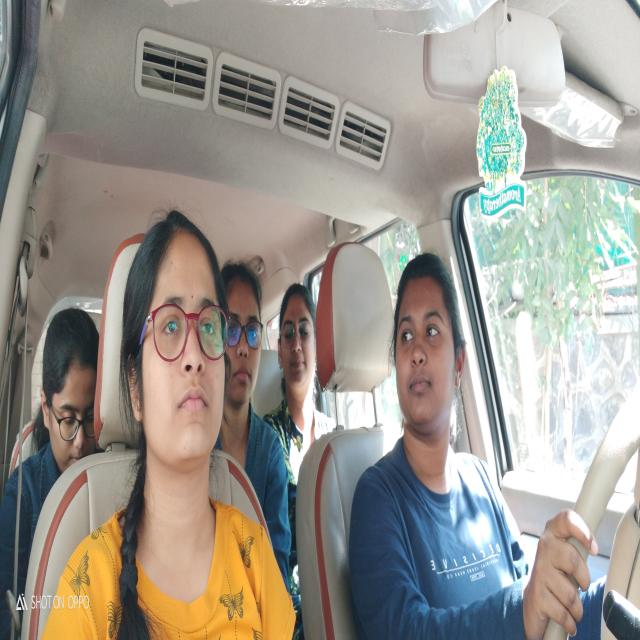LeftRight: (391, 250, 465, 433)
person: (118, 203, 226, 472), (37, 298, 105, 458), (222, 266, 270, 416), (275, 272, 316, 400)
